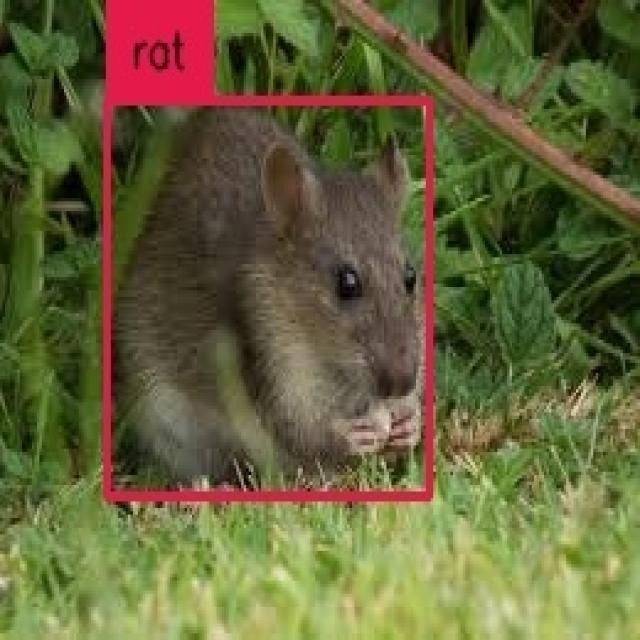rat: (109, 100, 428, 497)
